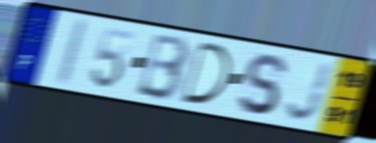5: (89, 25, 138, 91)
B: (133, 32, 193, 103)
D: (180, 39, 233, 107)
I: (52, 16, 92, 88)
J: (283, 60, 335, 124)
S: (235, 51, 288, 117)
